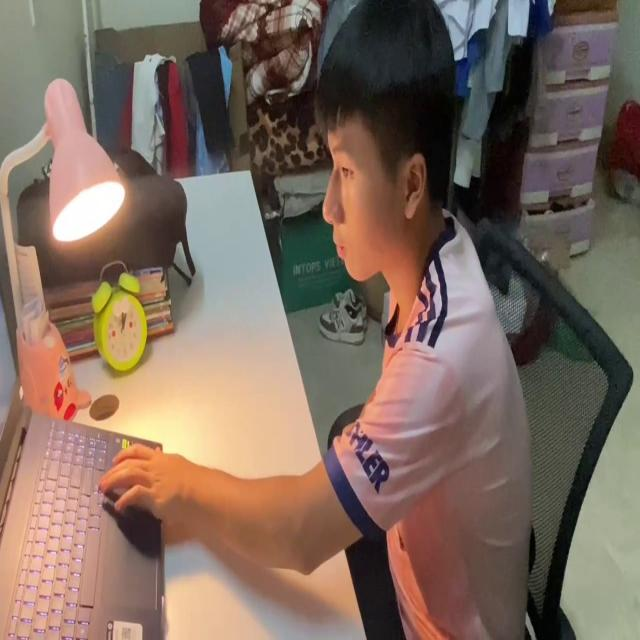laptop: (1, 277, 171, 640)
student: (101, 3, 533, 640)
